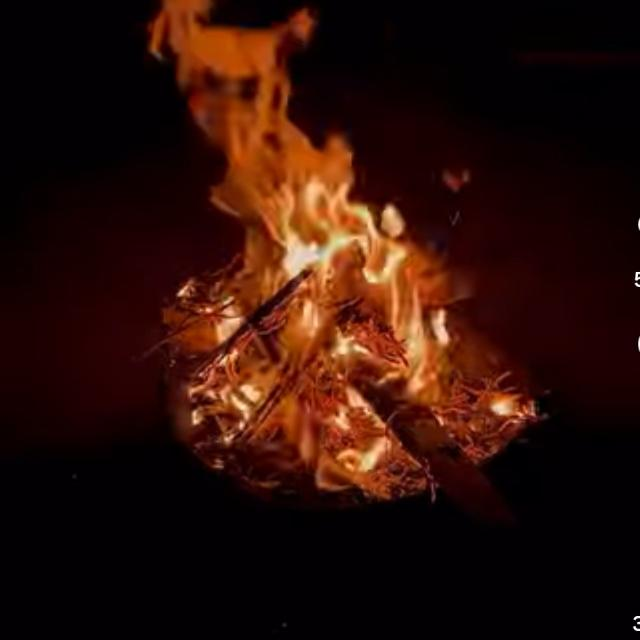fire: (149, 0, 534, 499)
